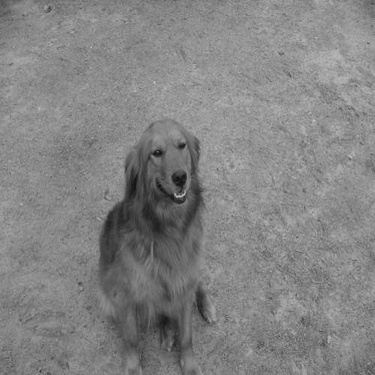dog: (83, 109, 222, 373)
